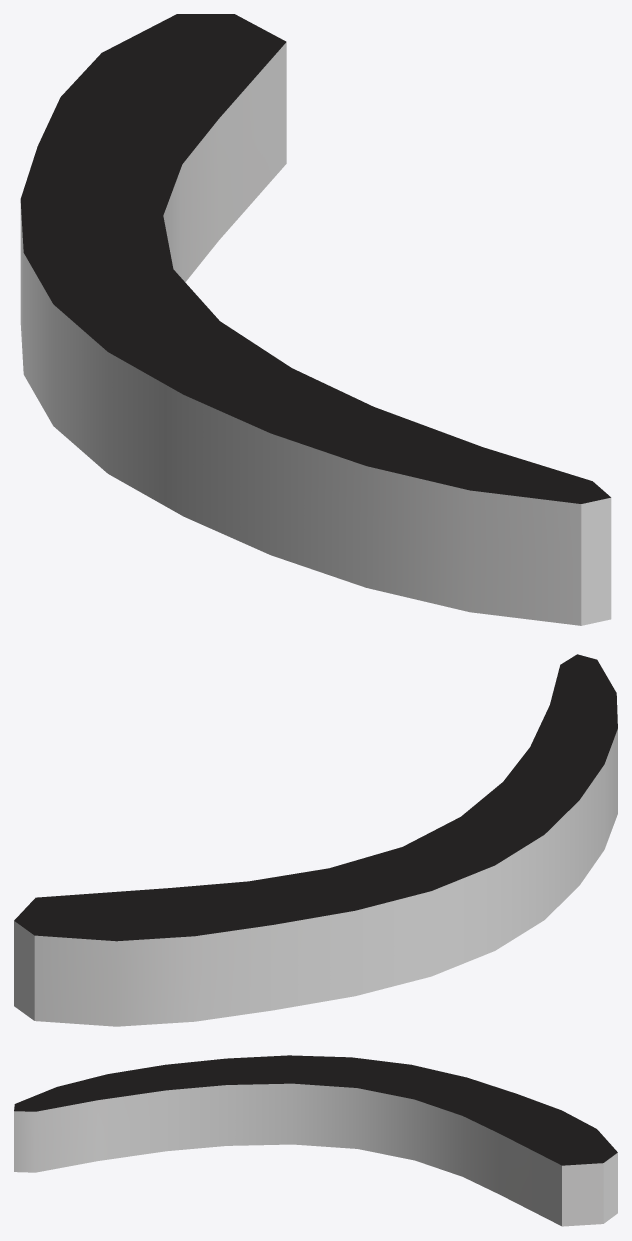
Rendered from tembok pinggir.fbx.
3 renders of one model, top to bottom at view 1: azimuth 30°, elevation 25°; view 2: azimuth 150°, elevation 25°; view 3: azimuth 270°, elevation 25°, orthographic. The views are drawn at different scales.
Parts seen in each view (by area): view 1: Circle.002; view 2: Circle.002; view 3: Circle.002.
Boxes of the visible parts, x1,y1,x2,y2 form: Circle.002: (20,14,611,625); Circle.002: (14,654,617,1026); Circle.002: (14,1055,617,1226).
Size of the model in its own units: 59.11 by 15.22 by 137.
